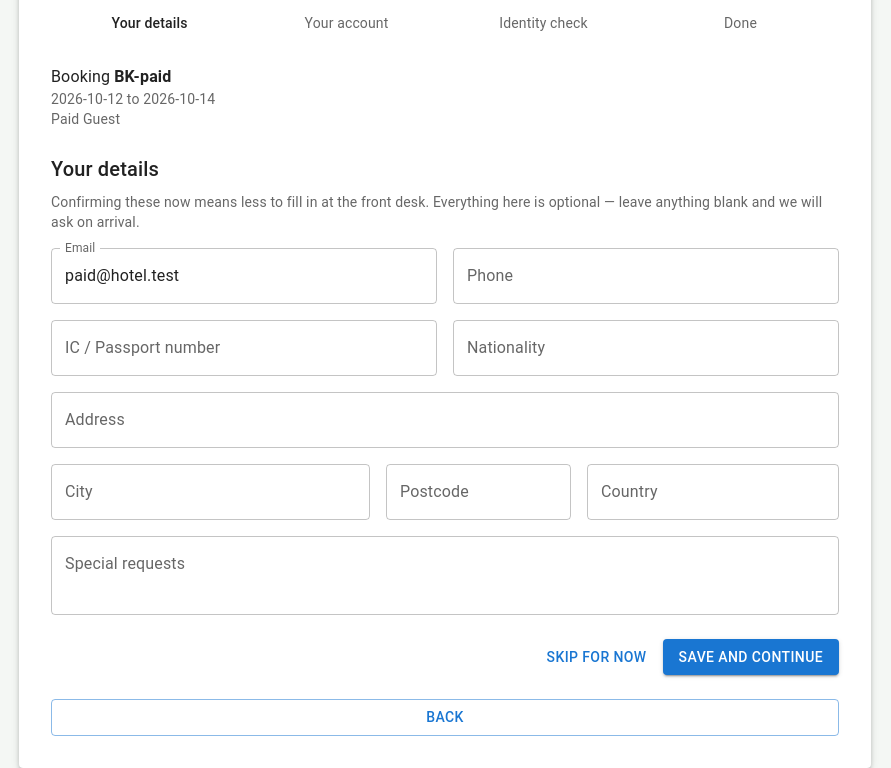
Test: GuestCheckInForm › claims an account and hands the portal session to the identity step
(page scrolled)
Step 1. Click the button "Skip for now" → click(597, 657), box x1=539 y1=639 x2=655 y2=676
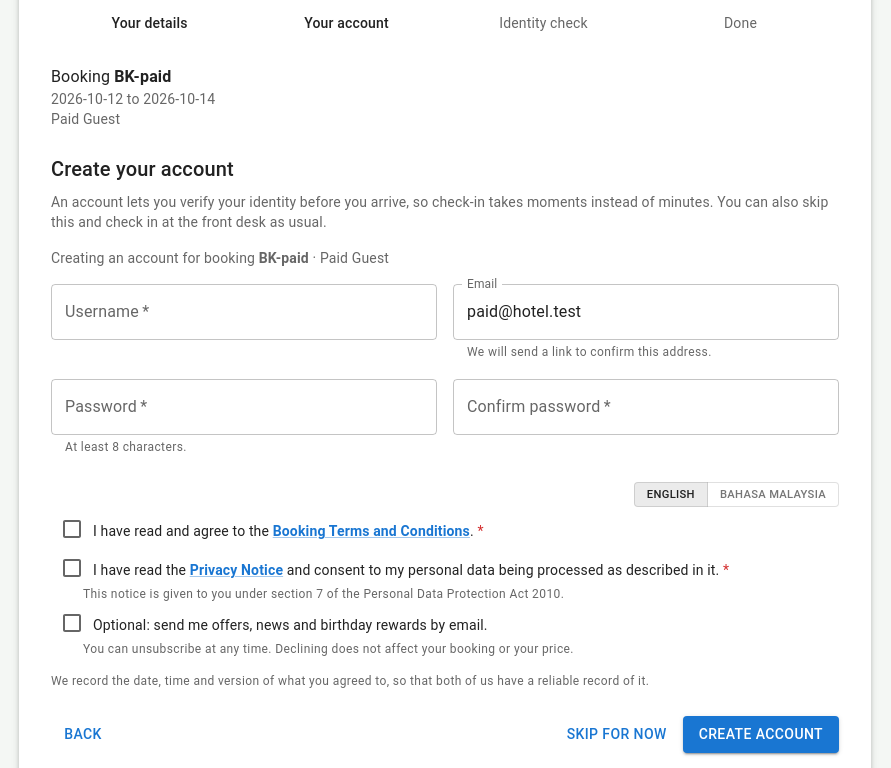
Now the heading "Create your account" is shown, box x1=51 y1=157 x2=234 y2=181
Step 2. Type "paidguest" into the field labelled "Username *" → (244, 312), box x1=51 y1=284 x2=437 y2=340
Step 3. Type "Sup3rSecret!" into the password field labelled "Password *" → (244, 407), box x1=51 y1=379 x2=437 y2=435
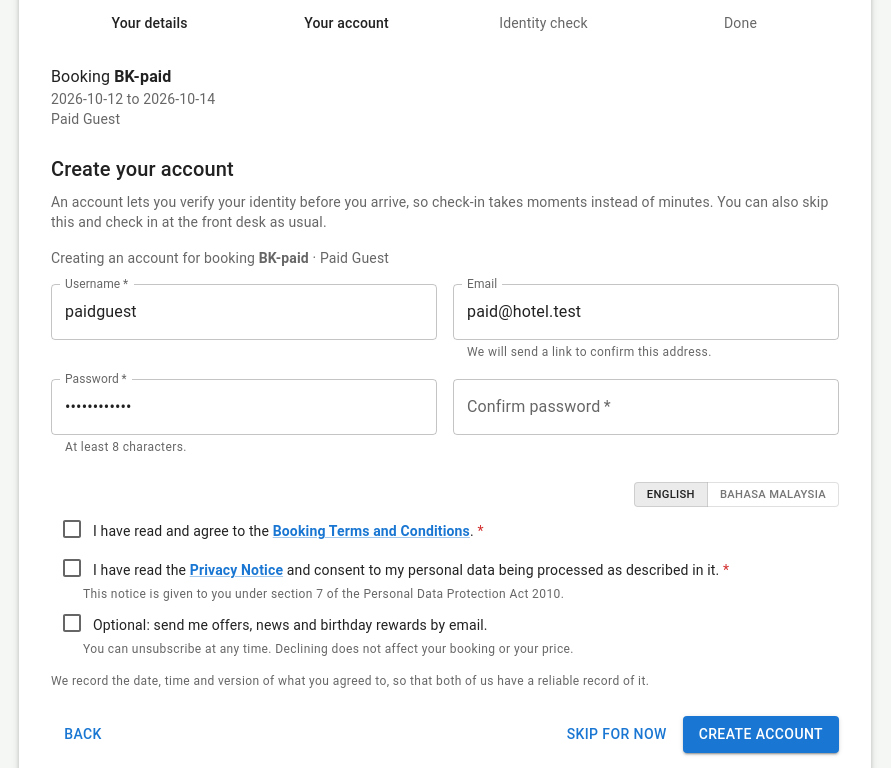
Step 4. Type "Sup3rSecret!" into the password field labelled "Confirm password *" → (646, 407), box x1=453 y1=379 x2=839 y2=435
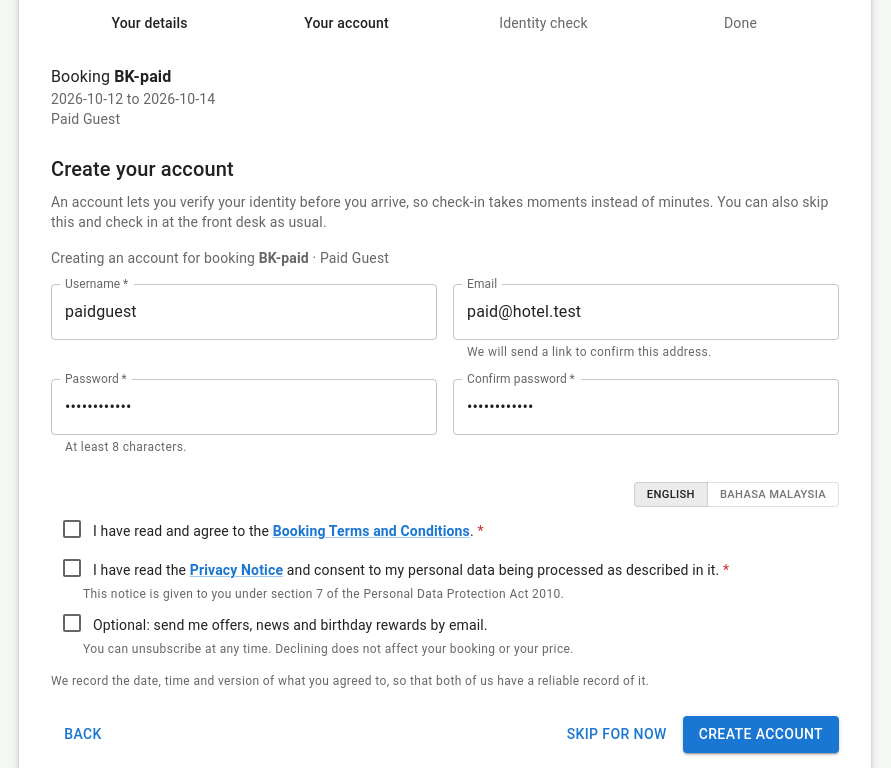
Step 5. Click the checkbox named "I have read and agree to the Booking Terms and Conditions." → click(267, 533), box x1=51 y1=515 x2=484 y2=550
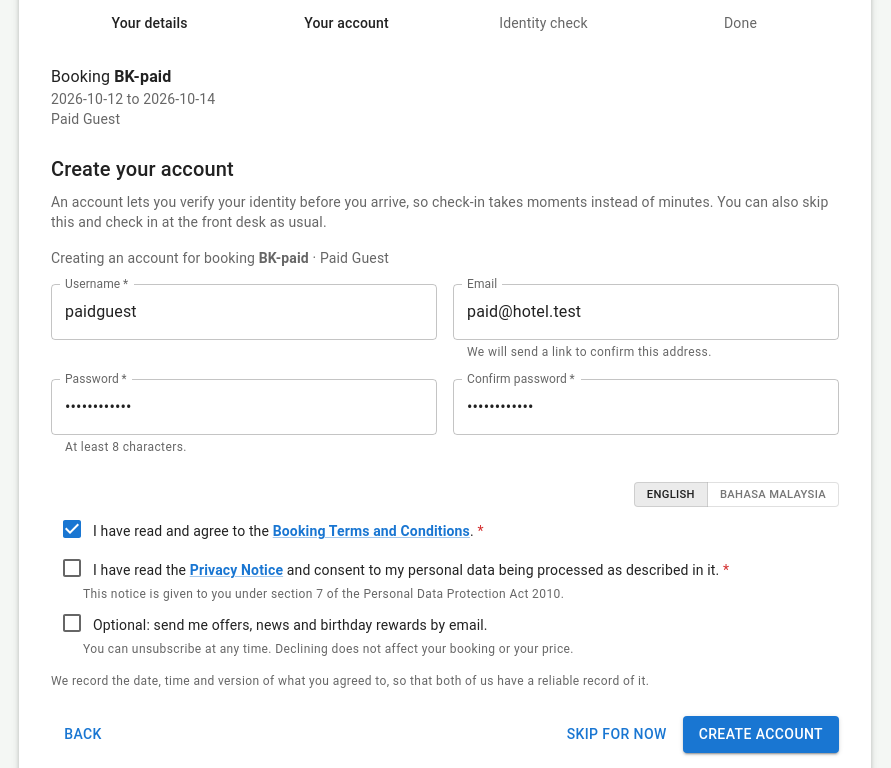
Step 6. Click the checkbox named "I have read the Privacy Notice and consent to my personal da" → click(390, 572), box x1=51 y1=554 x2=729 y2=589
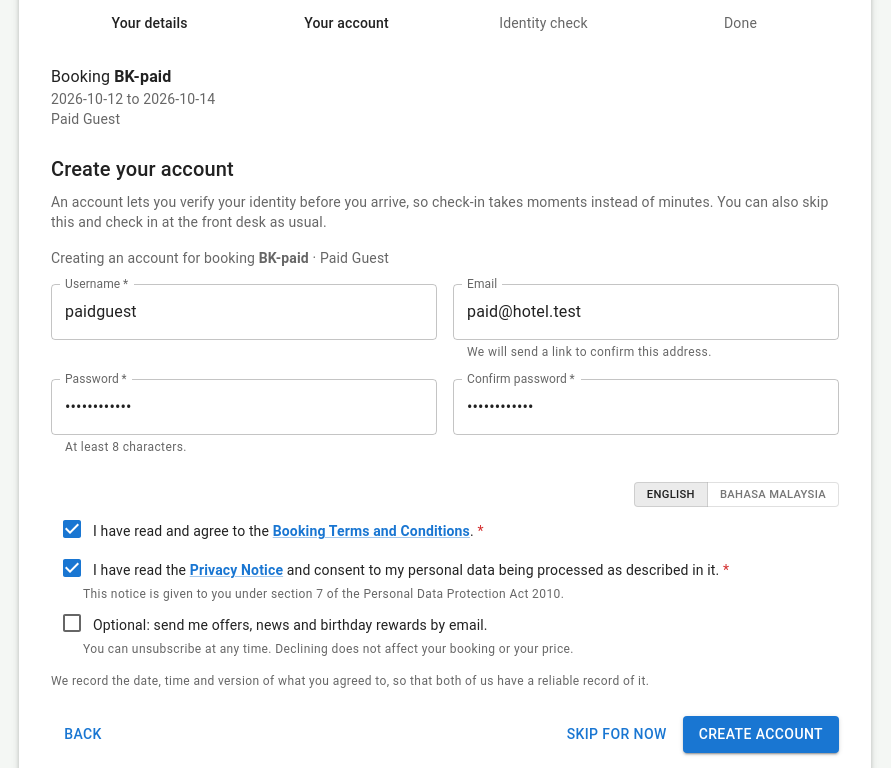
Step 7. Click the button "Create account" → click(761, 734), box x1=683 y1=716 x2=839 y2=753
(page scrolled)
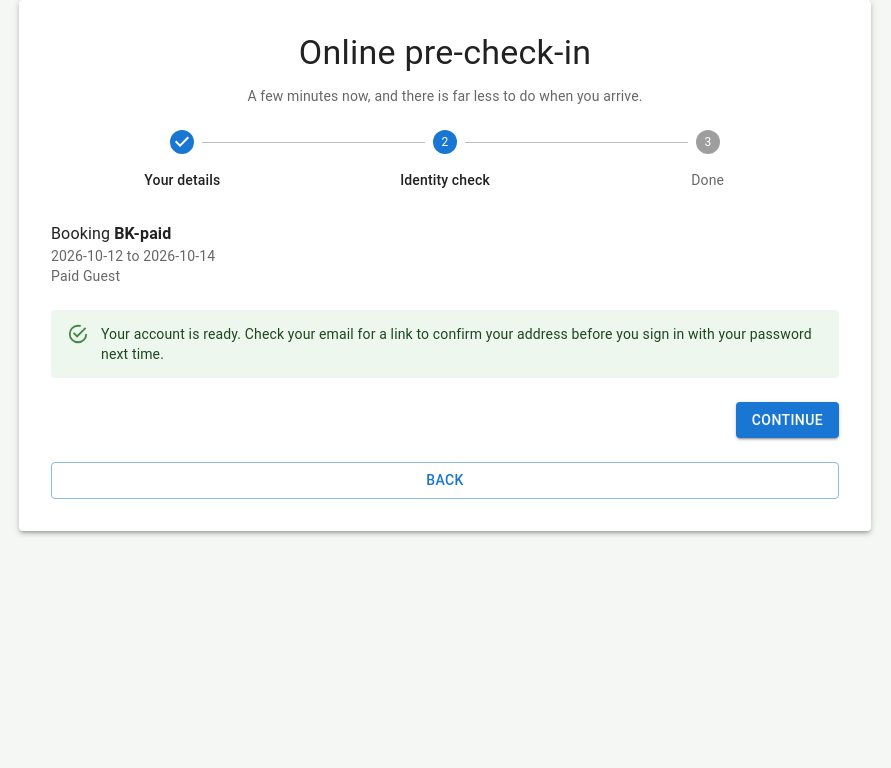
Now the text "Check your email for a link to confirm" is shown, box x1=101 y1=326 x2=812 y2=362
